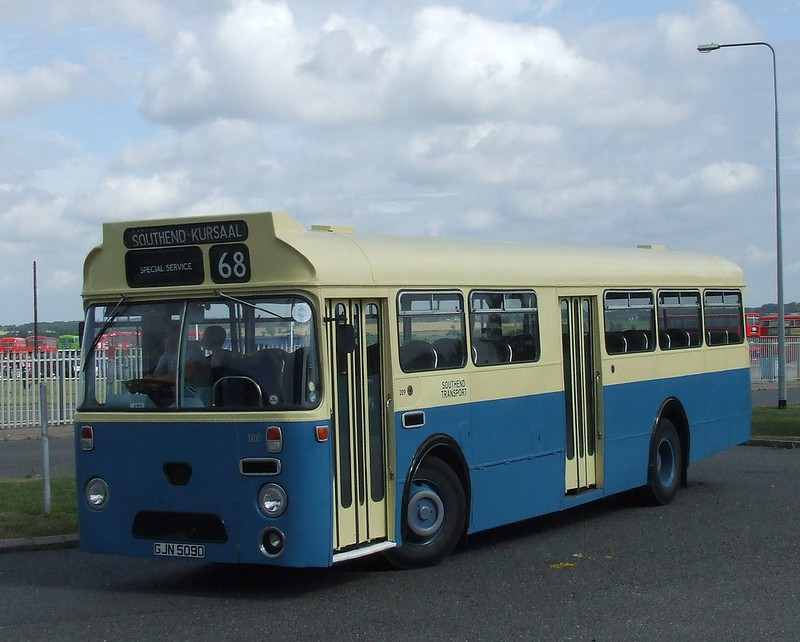train: (59, 193, 771, 585)
